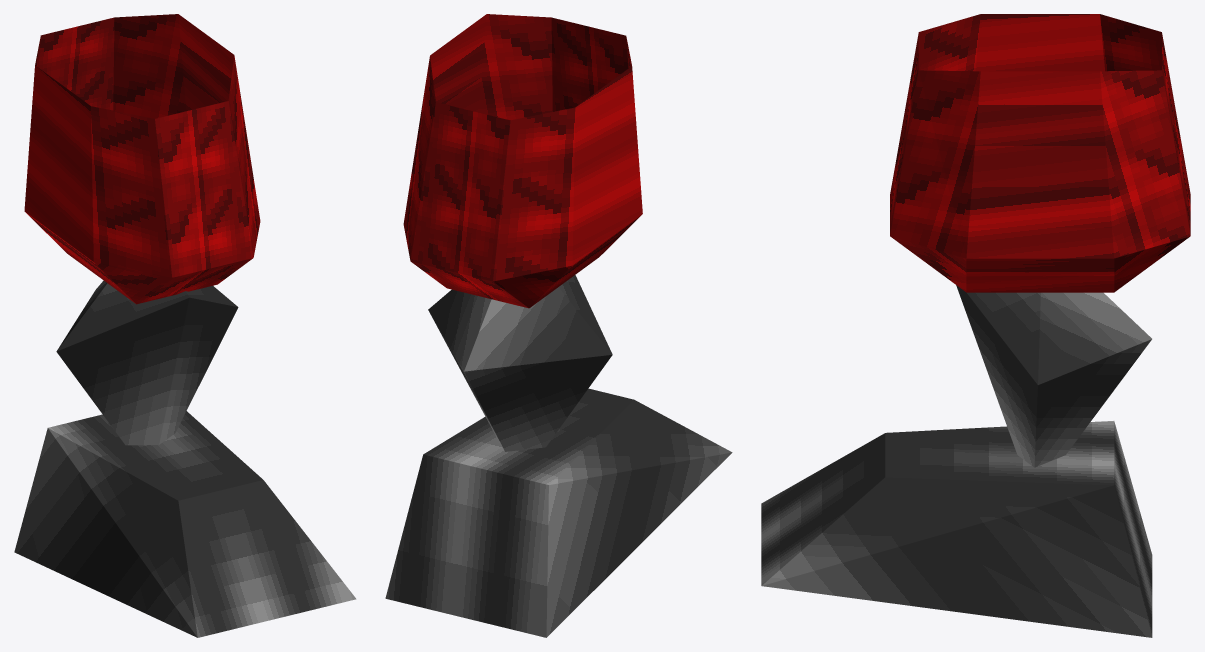
Rendered from Peppy_piernaI.obj.
3 views of the same model, side by side, from view 1: azimuth 30°, elevation 25°; view 2: azimuth 150°, elevation 25°; view 3: azimuth 270°, elevation 25° (orthographic). The views are drawn at different scales.
Size of the model in its own units: 47 by 129 by 90.
